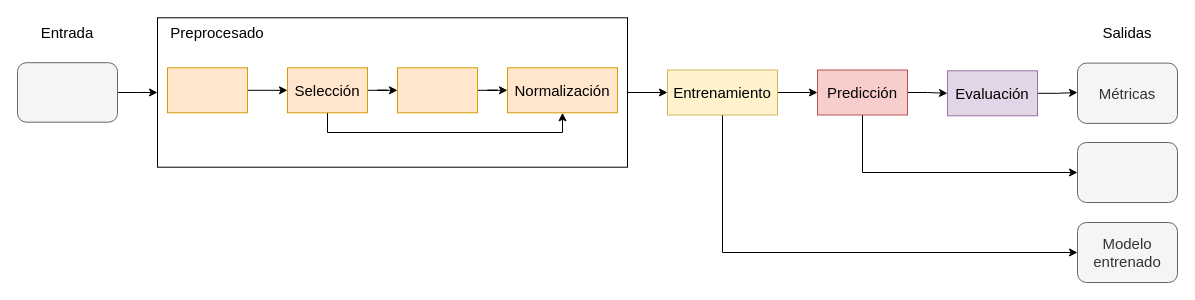
The diagram is 1195 pixels wide and 300 high, and some of its shapes have lost their labels. The centre of each missing label's shape, as x and y in pixels:
"División" belongs at (207,90).
"Imágenes" belongs at (67,92).
"Máscaras predecidas" belongs at (1127,172).
"SR" belongs at (437,90).
